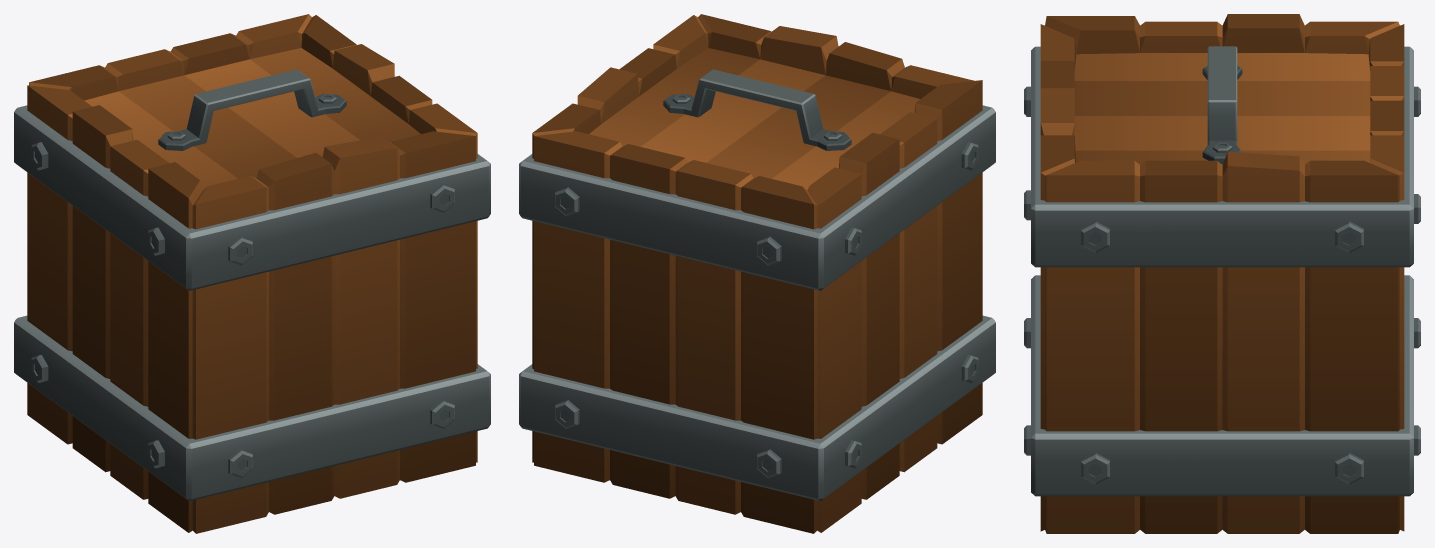
The picture shows the model from 3 angles, left to right: view 1: azimuth 30°, elevation 25°; view 2: azimuth 150°, elevation 25°; view 3: azimuth 270°, elevation 25°; orthographic projection. The views are drawn at different scales.
Parts seen in each view (by area): view 1: Box-1-3; view 2: Box-1-3; view 3: Box-1-3.
Part boxes in pixels (x1,y1,x2,y2): Box-1-3: (14,14,490,533); Box-1-3: (519,14,995,533); Box-1-3: (1024,14,1420,533).
Size of the model in its own units: 101 by 108 by 101.
